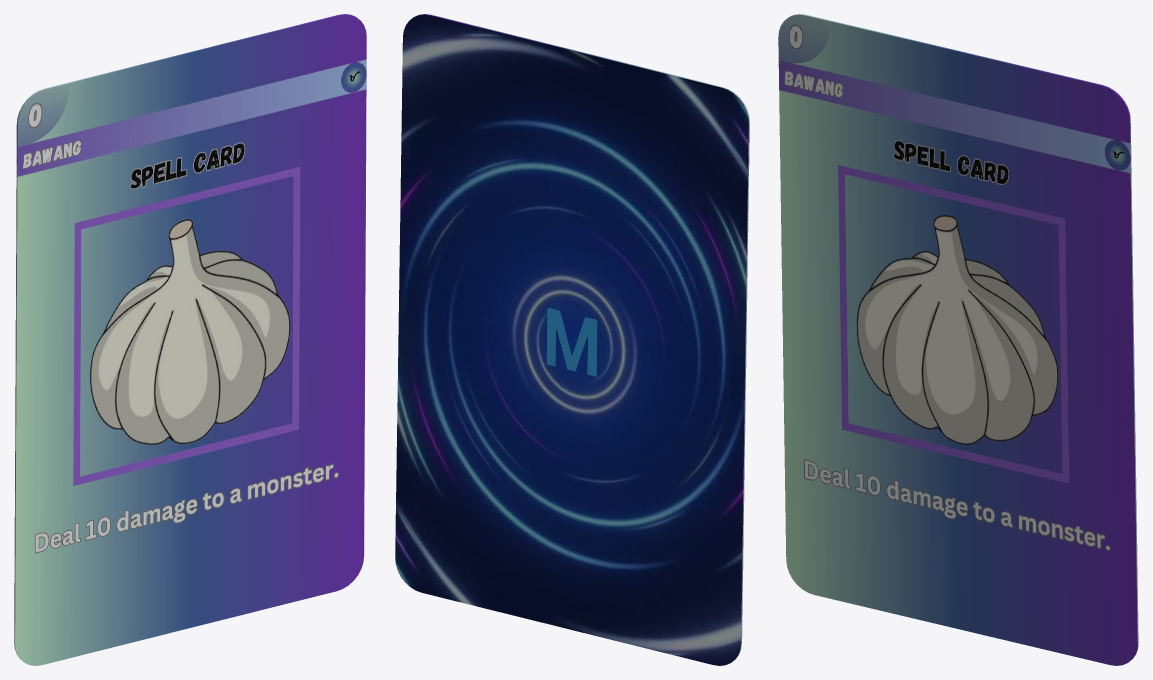
File: Bawang.glb
The picture shows the model from 3 angles, left to right: view 1: azimuth 30°, elevation 25°; view 2: azimuth 150°, elevation 25°; view 3: azimuth 330°, elevation 25°; orthographic projection.
Visible parts, largest first — view 1: Card; view 2: Card; view 3: Card.
Boxes of the visible parts, x1=… form: Card: x1=14, y1=14, x2=366, y2=665; Card: x1=395, y1=14, x2=749, y2=665; Card: x1=778, y1=14, x2=1138, y2=665.
Bounding box in the file's own units: 0.0564 × 0.0891 × 0.00197.
Materials: 2 (2 with a texture image).
